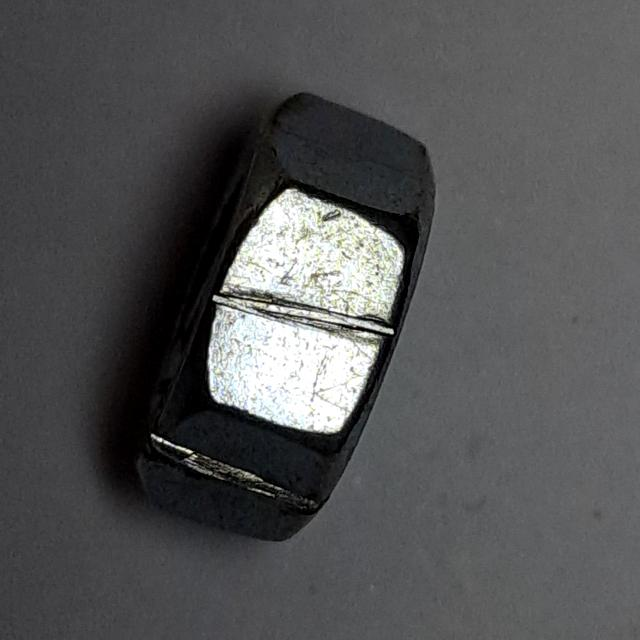Side_Scratches: (113, 79, 453, 556)
